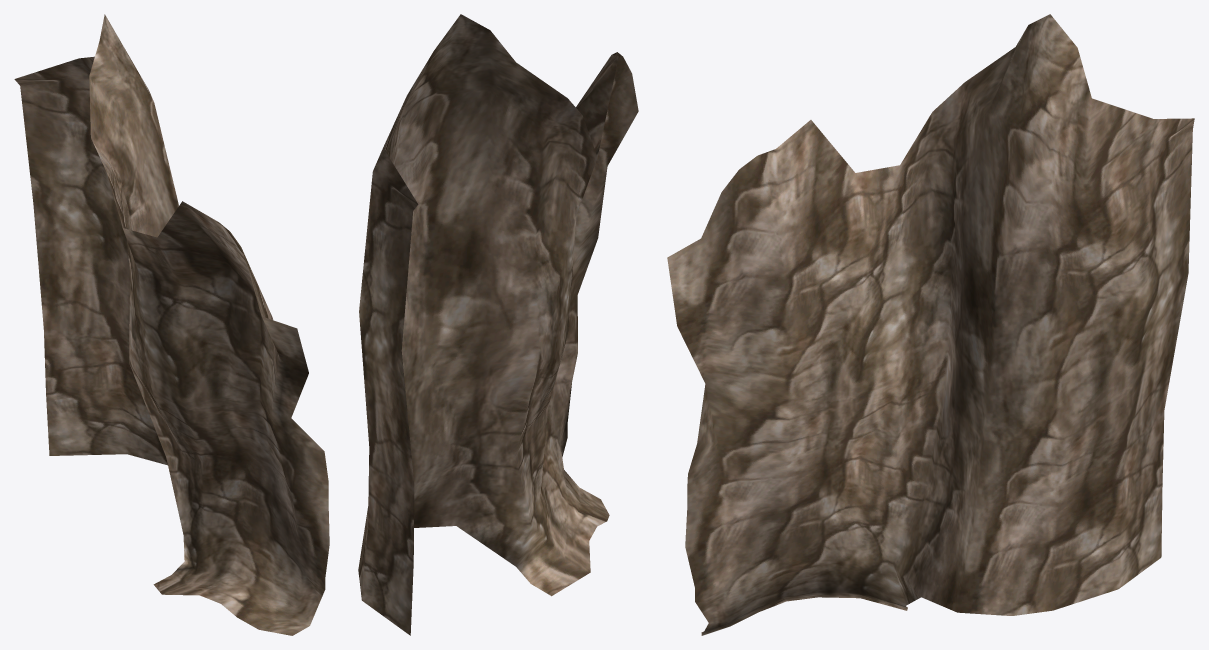
File: EKH_ENTRANCE_PS_EN_ROCKWALL3493847.fbx
The picture shows the model from 3 angles, left to right: view 1: azimuth 30°, elevation 25°; view 2: azimuth 150°, elevation 25°; view 3: azimuth 270°, elevation 25°; orthographic projection. The views are drawn at different scales.
Visible parts, largest first — view 1: EKH_ENTRANCE_PS_EN_ROCKWALL3493847; view 2: EKH_ENTRANCE_PS_EN_ROCKWALL3493847; view 3: EKH_ENTRANCE_PS_EN_ROCKWALL3493847.
Boxes of the visible parts, x1,y1,x2,y2 form: EKH_ENTRANCE_PS_EN_ROCKWALL3493847: (14,14,329,635); EKH_ENTRANCE_PS_EN_ROCKWALL3493847: (358,14,638,635); EKH_ENTRANCE_PS_EN_ROCKWALL3493847: (667,14,1194,635).
Bounding box in the file's own units: 56275 × 191243 × 152173.
Materials: 1 (1 with a texture image).
